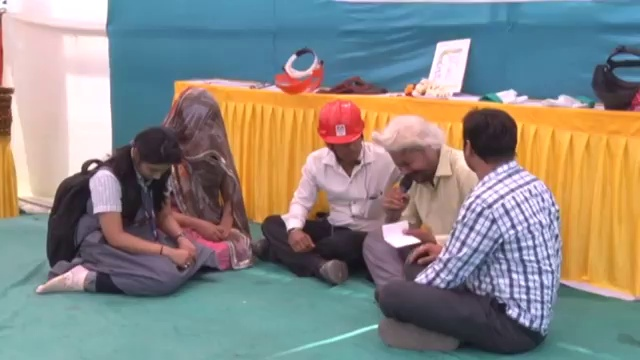helmet: (316, 99, 367, 147)
helmet_off: (458, 107, 525, 187), (383, 119, 448, 188), (166, 90, 223, 155), (124, 128, 181, 185)
helmet_on: (315, 101, 369, 172)
person: (372, 107, 564, 352), (38, 121, 203, 302), (256, 94, 400, 286), (363, 116, 481, 286), (153, 79, 250, 275)
